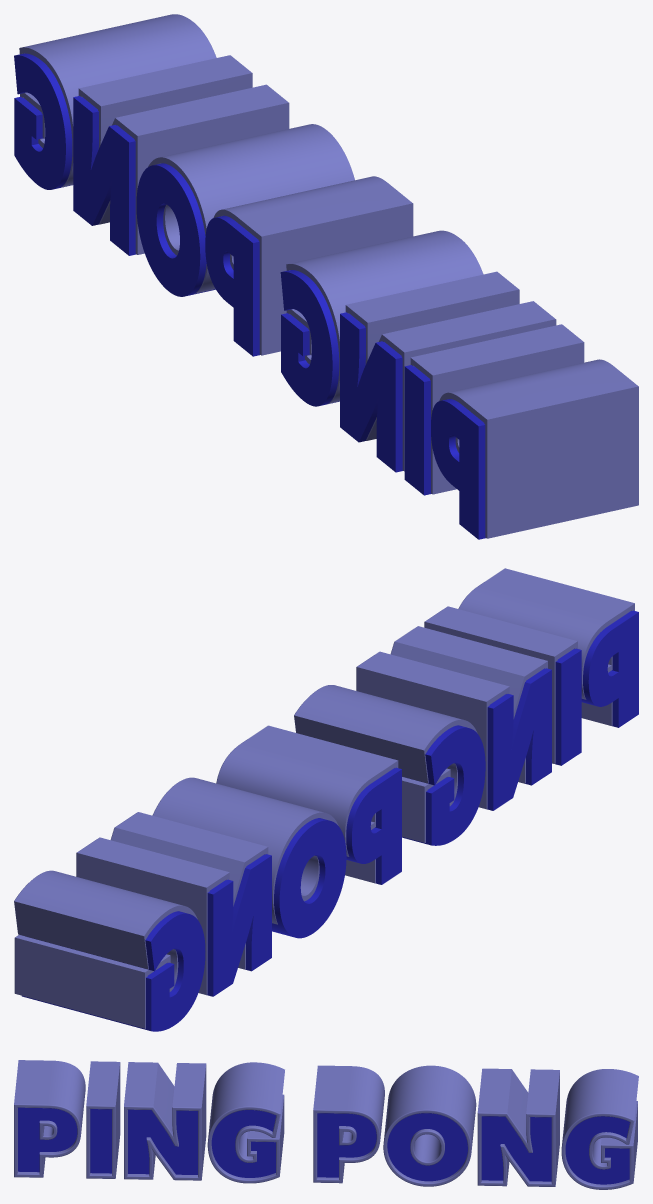
Rendered from Napis Ping Pong 2025.glb.
3 views of the same model, one above another, from view 1: azimuth 30°, elevation 25°; view 2: azimuth 150°, elevation 25°; view 3: azimuth 270°, elevation 25° (orthographic). The views are drawn at different scales.
Parts seen in each view (by area): view 1: Zasób 21234, Zasób 11234; view 2: Zasób 21234, Zasób 11234; view 3: Zasób 21234, Zasób 11234.
Part boxes in pixels (box(x1,y1,x2,y2)): Zasób 21234: box(19, 14, 638, 538); Zasób 11234: box(14, 53, 485, 539); Zasób 21234: box(14, 568, 634, 1028); Zasób 11234: box(22, 610, 638, 1031); Zasób 21234: box(14, 1060, 638, 1189); Zasób 11234: box(18, 1107, 629, 1184).
Size of the model in its own units: 3.83 by 2.4 by 17.53.
